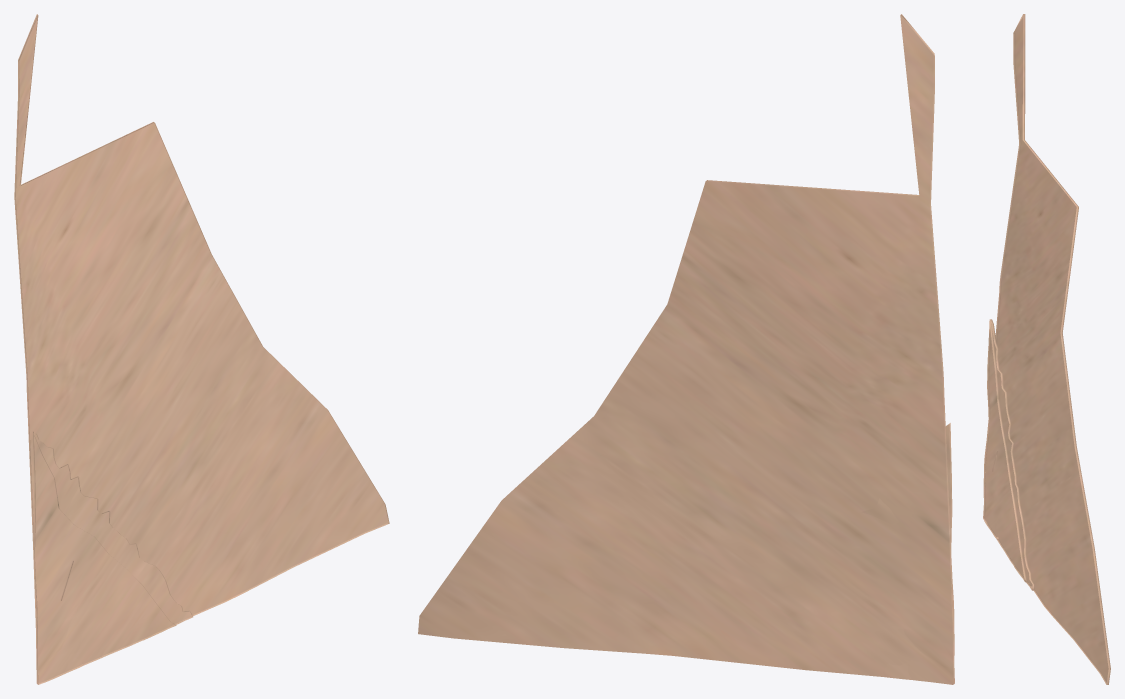
The picture shows the model from 3 angles, left to right: view 1: azimuth 30°, elevation 25°; view 2: azimuth 150°, elevation 25°; view 3: azimuth 270°, elevation 25°; orthographic projection. The views are drawn at different scales.
Bounding box in the file's own units: 16.68 × 24 × 5.41.
1 material, 1 textured.
